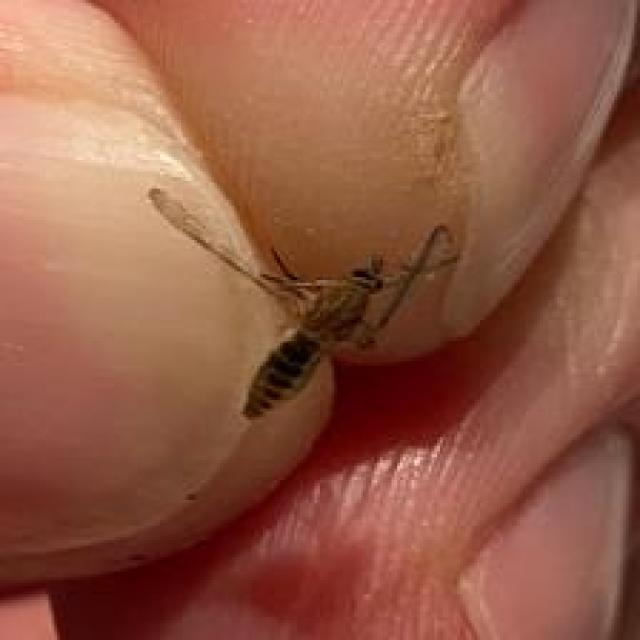Culex: (146, 186, 463, 423)
